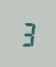three: (19, 19, 34, 47)
